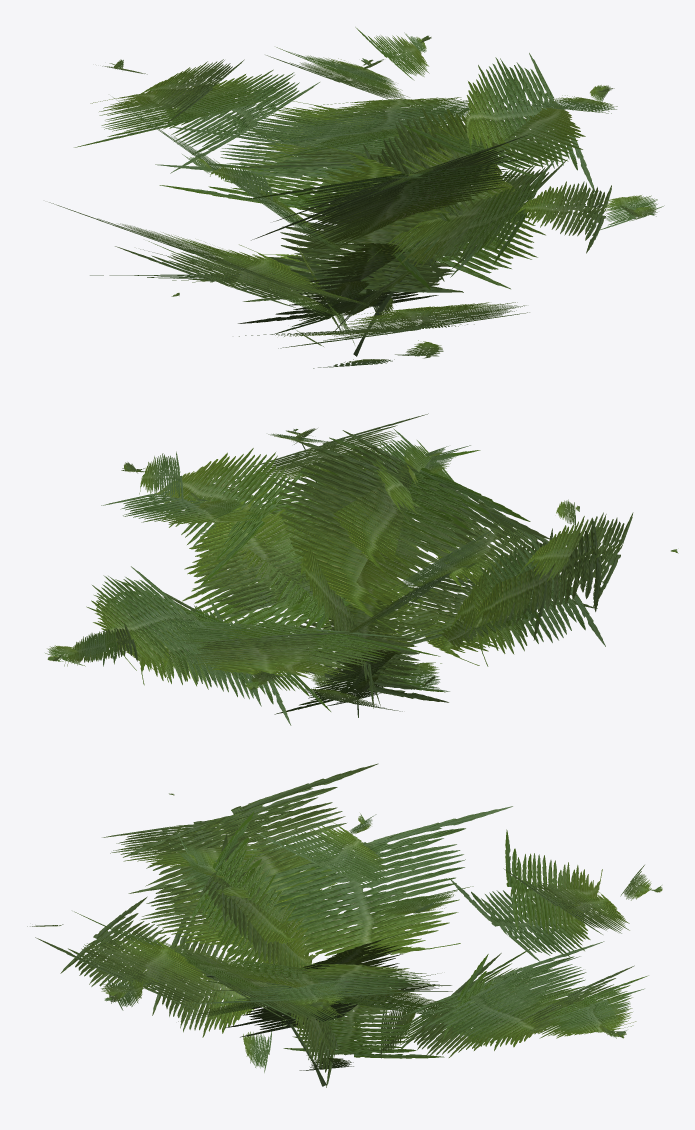
The model's file is fern_02_lod2.glb.
3 renders of one model, top to bottom at view 1: azimuth 30°, elevation 25°; view 2: azimuth 150°, elevation 25°; view 3: azimuth 270°, elevation 25°, orthographic. The views are drawn at different scales.
Visible parts, largest first — view 1: AE_15TH_FERN_02_LOD2; view 2: AE_15TH_FERN_02_LOD2; view 3: AE_15TH_FERN_02_LOD2.
Boxes of the visible parts, <box> form: AE_15TH_FERN_02_LOD2: <box>49,27,664,368</box>; AE_15TH_FERN_02_LOD2: <box>45,413,678,725</box>; AE_15TH_FERN_02_LOD2: <box>27,763,662,1087</box>.
Size of the model in its own units: 0.5055 by 0.22 by 0.5471.
4 materials, 4 textured.
